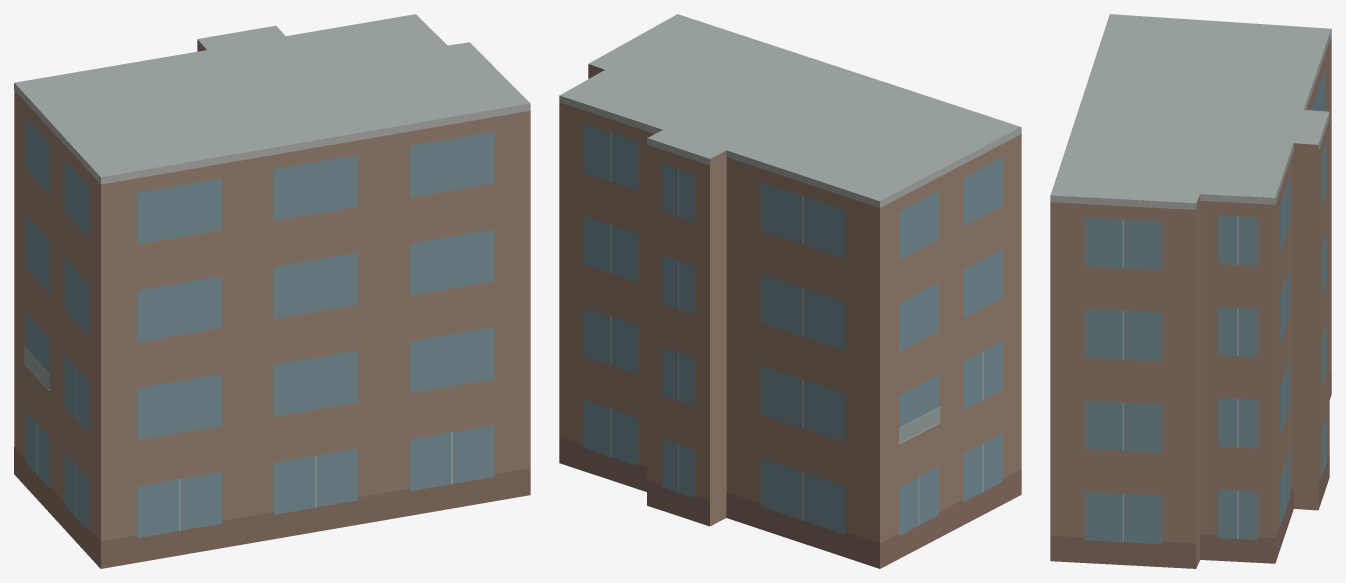
File: survey-upis-32944595.glb
3 renders of one model, left to right at view 1: azimuth 30°, elevation 25°; view 2: azimuth 150°, elevation 25°; view 3: azimuth 270°, elevation 25°, orthographic. The views are drawn at different scales.
Parts seen in each view (by area): view 1: survey-upis-32944595.tmp; view 2: survey-upis-32944595.tmp; view 3: survey-upis-32944595.tmp.
Part boxes in pixels (x1=…): survey-upis-32944595.tmp: x1=14, y1=14, x2=530, y2=568; survey-upis-32944595.tmp: x1=559, y1=14, x2=1021, y2=568; survey-upis-32944595.tmp: x1=1050, y1=14, x2=1331, y2=568.
Bounding box in the file's own units: 14.72 × 13.25 × 9.24.
